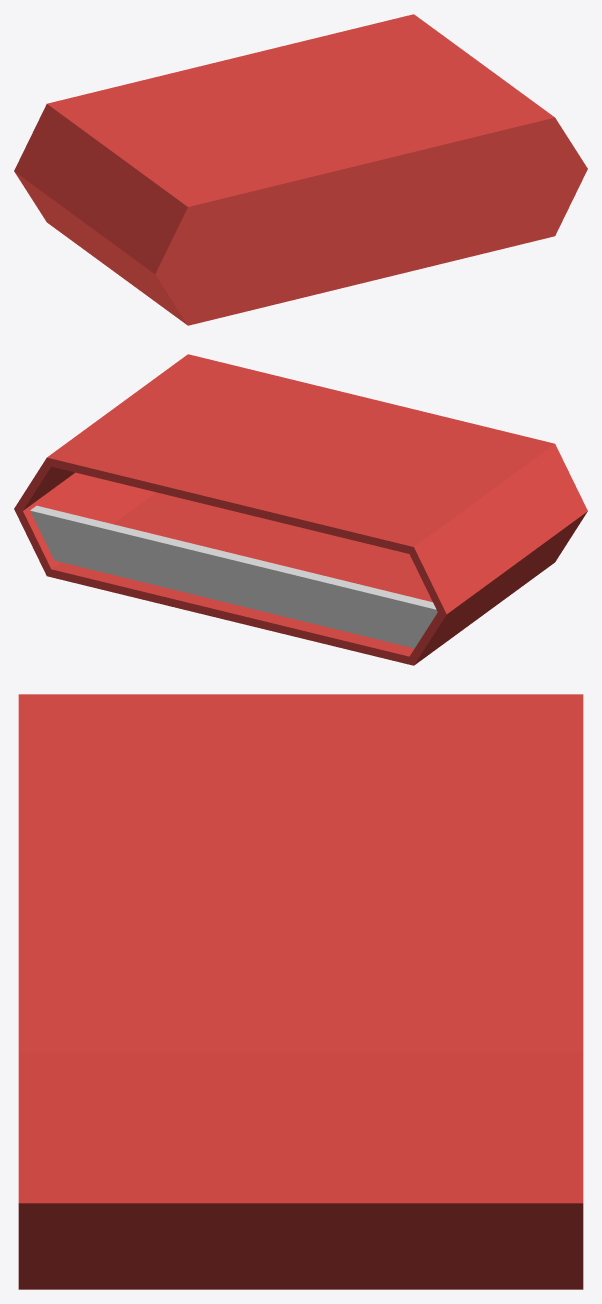
The model's file is hex_long.fbx.
The picture shows the model from 3 angles, top to bottom: view 1: azimuth 30°, elevation 25°; view 2: azimuth 150°, elevation 25°; view 3: azimuth 270°, elevation 25°; orthographic projection. The views are drawn at different scales.
Visible parts, largest first — view 1: Cylinder.021; view 2: Cylinder.021; view 3: Cylinder.021.
Part boxes in pixels (bbox=[...]): Cylinder.021: bbox=[14, 14, 587, 325]; Cylinder.021: bbox=[14, 354, 587, 665]; Cylinder.021: bbox=[18, 694, 583, 1289].
Size of the model in its own units: 2300 by 603 by 1300.
